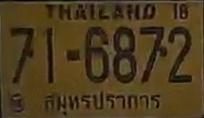1: (46, 27, 53, 83)
2: (166, 26, 192, 82)
6: (84, 26, 108, 82)
7: (138, 25, 166, 82), (10, 26, 34, 83)
8: (112, 26, 136, 82)
SPK: (38, 87, 164, 117)
